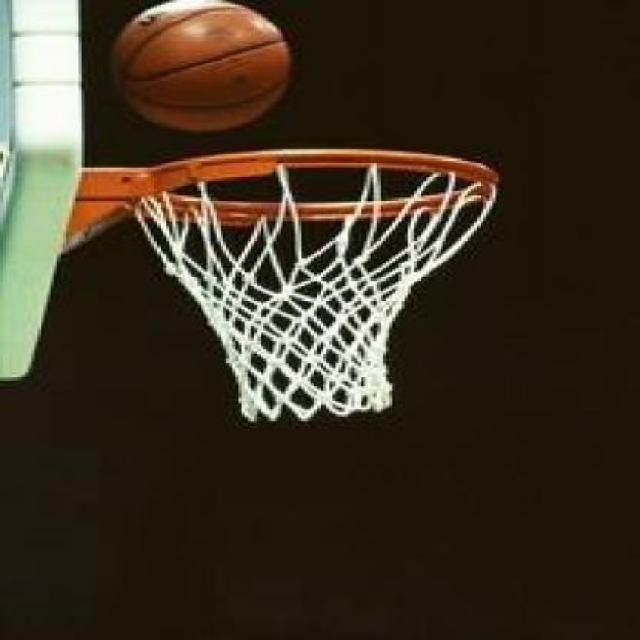basketball: (113, 1, 295, 135)
rim: (132, 148, 492, 420)
